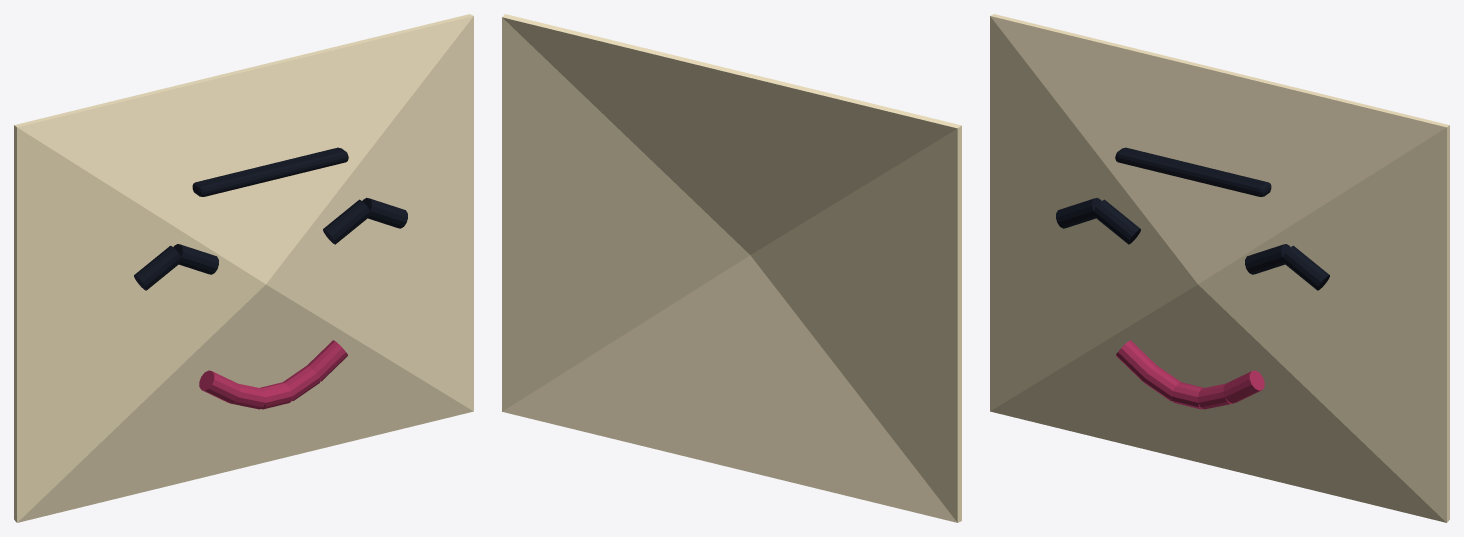
File: Face_emote_bow.fbx
3 views of the same model, side by side, from view 1: azimuth 30°, elevation 25°; view 2: azimuth 150°, elevation 25°; view 3: azimuth 330°, elevation 25° (orthographic).
Parts seen in each view (by area): view 1: Face_emote_bow.Mesh; view 2: Face_emote_bow.Mesh; view 3: Face_emote_bow.Mesh.
Boxes of the visible parts, left/top/right/bottom form: Face_emote_bow.Mesh: left=14, top=14, right=473, bottom=522; Face_emote_bow.Mesh: left=502, top=14, right=961, bottom=522; Face_emote_bow.Mesh: left=990, top=14, right=1449, bottom=522.
Size of the model in its own units: 58 by 48 by 8.19.
